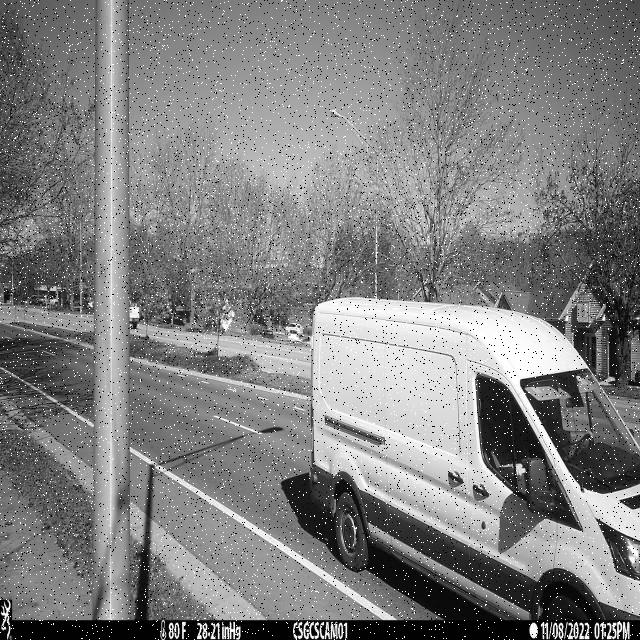Van: (309, 296, 640, 624)
